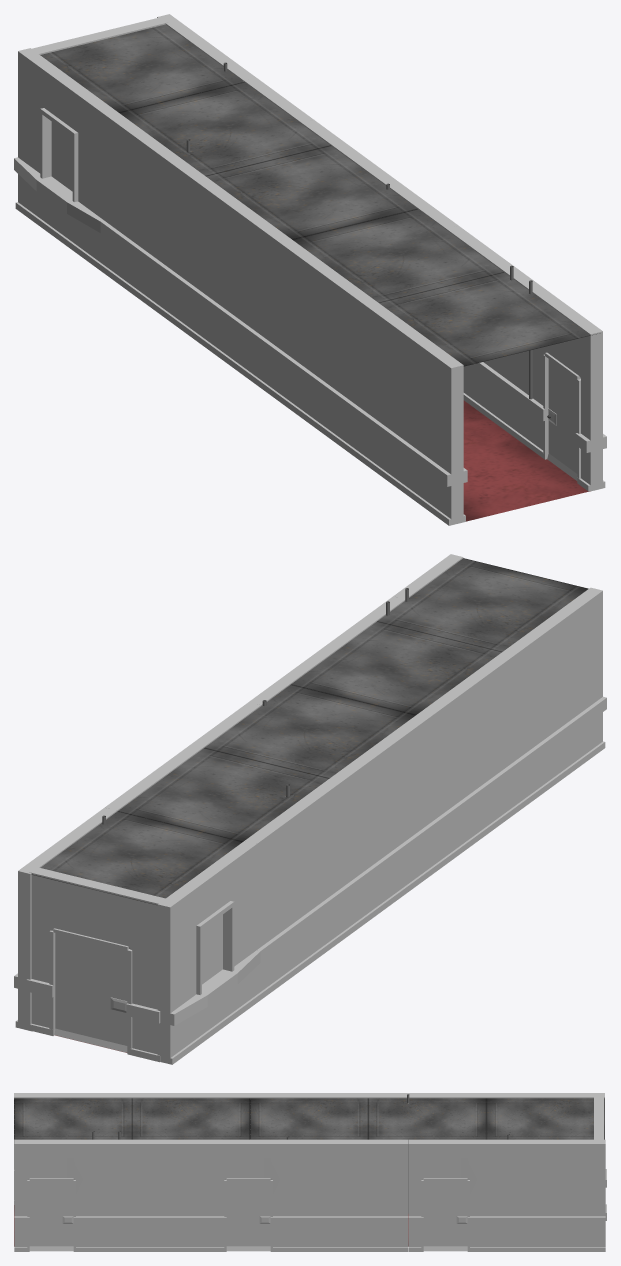
Rendered from SM_ModularCorridor_JamesMcNamara.fbx.
3 views of the same model, one above another, from view 1: azimuth 30°, elevation 25°; view 2: azimuth 150°, elevation 25°; view 3: azimuth 270°, elevation 25° (orthographic). The views are drawn at different scales.
Visible parts, largest first — view 1: SM_ceiling, SM_WallFull, SM_WallFull4, SM_WallFull2, SM_WallWindow, SM_DoorWall2, SM_Carpet, SM_WallHalf2, SM_WallHalf, SM_WallFull7, SM_WallFull5, SM_DoorWall4 (+3 smaller); view 2: SM_ceiling, SM_DoorWall4, SM_WallWindow, SM_WallFull2, SM_WallFull4, SM_WallFull, SM_WallHalf2, SM_WallHalf, SM_WallFull6, SM_WallFull5, SM_WallFull7, SM_DoorWall3 (+2 smaller); view 3: SM_ceiling, SM_WallFull5, SM_WallFull7, SM_WallFull6, SM_DoorWall1, SM_DoorWall2, SM_DoorWall3, SM_WallFull, SM_WallWindow, SM_WallFull2, SM_WallFull4, SM_DoorWall4 (+2 smaller).
Part boxes in pixels (bbox=[...]): SM_ceiling: bbox=[40, 24, 600, 366]; SM_WallFull: bbox=[360, 302, 467, 525]; SM_WallFull4: bbox=[100, 111, 203, 335]; SM_WallFull2: bbox=[274, 238, 376, 461]; SM_WallWindow: bbox=[14, 48, 116, 271]; SM_DoorWall2: bbox=[529, 289, 606, 491]; SM_Carpet: bbox=[463, 400, 590, 521]; SM_WallHalf2: bbox=[187, 175, 246, 367]; SM_WallHalf: bbox=[230, 206, 289, 398]; SM_WallFull7: bbox=[446, 225, 544, 448]; SM_WallFull5: bbox=[301, 120, 400, 185]; SM_DoorWall4: bbox=[31, 17, 167, 54]; SM_ceiling: bbox=[31, 558, 588, 905]; SM_DoorWall4: bbox=[26, 867, 165, 1062]; SM_WallWindow: bbox=[154, 841, 260, 1064]; SM_WallFull2: bbox=[418, 651, 520, 874]; SM_WallFull4: bbox=[245, 777, 347, 1001]; SM_WallFull: bbox=[504, 587, 606, 810]; SM_WallHalf2: bbox=[331, 746, 390, 937]; SM_WallHalf: bbox=[374, 714, 433, 905]; SM_WallFull6: bbox=[14, 807, 116, 1031]; SM_WallFull5: bbox=[163, 702, 261, 768]; SM_WallFull7: bbox=[307, 596, 405, 663]; SM_DoorWall3: bbox=[105, 765, 174, 811]; SM_ceiling: bbox=[14, 1098, 604, 1143]; SM_WallFull5: bbox=[290, 1139, 408, 1251]; SM_WallFull7: bbox=[93, 1139, 211, 1251]; SM_WallFull6: bbox=[487, 1139, 605, 1251]; SM_DoorWall1: bbox=[211, 1139, 290, 1251]; SM_DoorWall2: bbox=[14, 1139, 93, 1251]; SM_DoorWall3: bbox=[408, 1139, 487, 1251]; SM_WallFull: bbox=[14, 1093, 132, 1204]; SM_WallWindow: bbox=[487, 1093, 604, 1139]; SM_WallFull2: bbox=[132, 1093, 250, 1098]; SM_WallFull4: bbox=[368, 1093, 486, 1098]; SM_DoorWall4: bbox=[594, 1097, 606, 1220].
Size of the model in its own units: 3.3 by 3.22 by 15.04.
